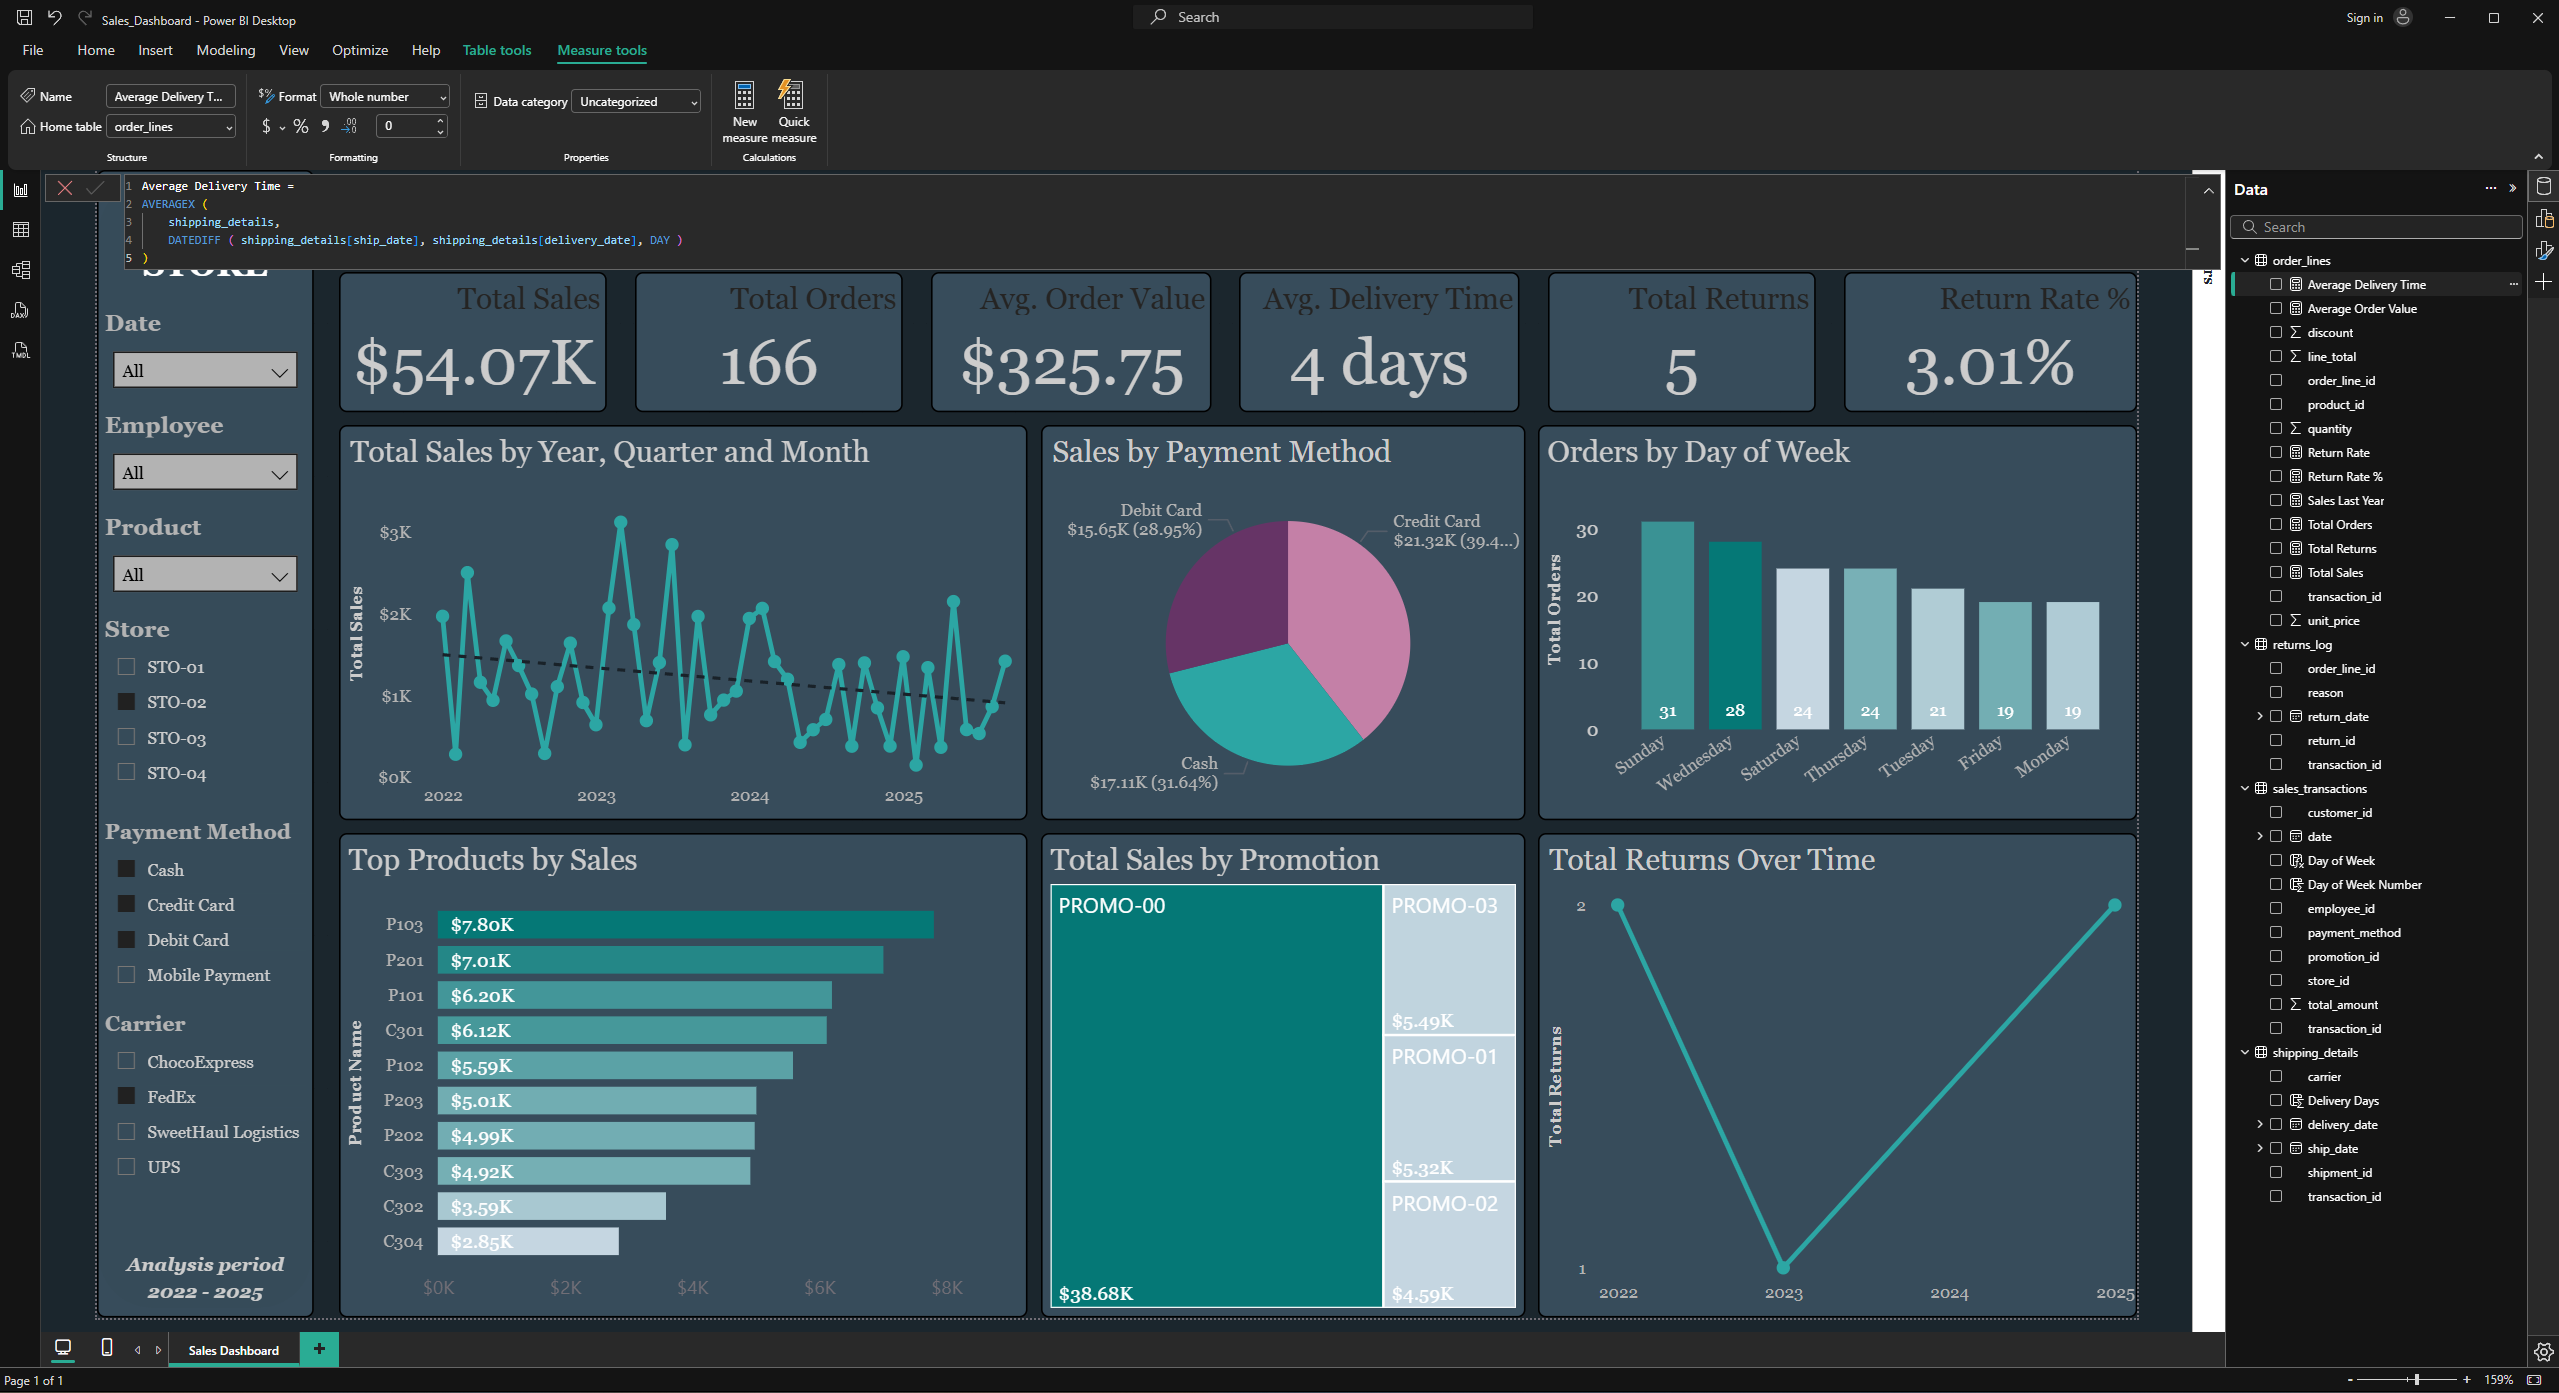

What the dashboard file says about the page in this screenshot:
{"tool":"powerbi","page":{"name":"Sales Dashboard","canvas":[1280,720],"ordinal":0},"visuals":[{"type":"shape","box":[0,0,136,720],"z":0},{"type":"lineChart","fields":{"Y":["order_lines.Total Sales"],"Category":["sales_transactions.date.Variation.Date Hierarchy.Year","sales_transactions.date.Variation.Date Hierarchy.Quarter","sales_transactions.date.Variation.Date Hierarchy.Month"]},"box":[152,160,432,248],"z":1000},{"type":"textbox","box":[152,8,1120,48],"z":2000},{"type":"slicer","title":"Employee","fields":{"Values":["sales_transactions.employee_id"]},"box":[0,152,136,64],"z":3000},{"type":"card","title":"Total Sales","fields":{"Values":["order_lines.Total Sales"]},"box":[152,64,168,88],"z":4000},{"type":"textbox","box":[0,16,136,64],"z":5000},{"type":"slicer","title":"Product","fields":{"Values":["order_lines.product_id"]},"box":[0,216,136,64],"z":6000},{"type":"slicer","title":"Date","fields":{"Values":["sales_transactions.date.Variation.Date Hierarchy.Year","sales_transactions.date.Variation.Date Hierarchy.Quarter","sales_transactions.date.Variation.Date Hierarchy.Month","sales_transactions.date.Variation.Date Hierarchy.Day","sales_transactions.date.Variation.Date Hierarchy.Year","sales_transactions.date.Variation.Date Hierarchy.Month"]},"box":[0,88,136,64],"z":7000},{"type":"card","title":"Total Orders","fields":{"Values":["order_lines.Total Orders"]},"box":[337.6,64,168,88],"z":8000},{"type":"card","title":"Total Returns","fields":{"Values":["order_lines.Total Returns"]},"box":[910.4,64,168,88],"z":9000},{"type":"card","title":"Avg. Order Value","fields":{"Values":["order_lines.Average Order Value"]},"box":[523.2,64,176,88],"z":10000},{"type":"card","title":"Avg. Delivery Time","fields":{"Values":["order_lines.Average Delivery Time"]},"box":[716.8,64,176,88],"z":11000},{"type":"card","title":"Return Rate %","fields":{"Values":["order_lines.Sales YoY Growth %"]},"box":[1096,64,184,88],"z":12000},{"type":"barChart","title":"Top Products by Sales","fields":{"Category":["order_lines.product_id"],"Y":["Sum(order_lines.line_total)"]},"box":[152,416,432,304],"z":13000},{"type":"slicer","title":"Store","fields":{"Values":["sales_transactions.store_id"]},"box":[0,280,136,120],"z":14000},{"type":"slicer","title":"Payment Method","fields":{"Values":["sales_transactions.payment_method"]},"box":[0,408,136,120],"z":15000},{"type":"pieChart","title":"Sales by Payment Method","fields":{"Category":["sales_transactions.payment_method"],"Y":["Sum(sales_transactions.total_amount)"]},"box":[592,160,304,248],"z":16000},{"type":"columnChart","title":"Orders by Day of Week","fields":{"Y":["order_lines.Total Orders"],"Category":["sales_transactions.Day of Week"]},"box":[904,160,376,248],"z":17000},{"type":"treemap","title":"Total Sales by Promotion","fields":{"Group":["sales_transactions.promotion_id"],"Values":["Sum(sales_transactions.total_amount)"]},"box":[592,416,304,304],"z":18000},{"type":"lineChart","title":"Total Returns Over Time","fields":{"Y":["CountNonNull(returns_log.return_id)"],"Category":["sales_transactions.date.Variation.Date Hierarchy.Year"]},"box":[904,416,376,304],"z":19000},{"type":"textbox","box":[0,672,136,48],"z":20000},{"type":"slicer","title":"Carrier","fields":{"Values":["shipping_details.carrier"]},"box":[0,528,136,120],"z":21000}]}

Visuals, with their boxes on the page's 1280x720 design canvas (x1, y1, x2, y2). These are canvas units, not pixel positions in the 2559x1393 screenshot, which may show the page scaled, cropped or inside an application window:
shape: 0:0:136:720
lineChart - order_lines.Total Sales x sales_transactions.date.Variation.Date Hierarchy.Year: 152:160:584:408
textbox: 152:8:1272:56
"Employee" slicer: 0:152:136:216
"Total Sales" card: 152:64:320:152
textbox: 0:16:136:80
"Product" slicer: 0:216:136:280
"Date" slicer: 0:88:136:152
"Total Orders" card: 338:64:506:152
"Total Returns" card: 910:64:1078:152
"Avg. Order Value" card: 523:64:699:152
"Avg. Delivery Time" card: 717:64:893:152
"Return Rate %" card: 1096:64:1280:152
"Top Products by Sales" barChart: 152:416:584:720
"Store" slicer: 0:280:136:400
"Payment Method" slicer: 0:408:136:528
"Sales by Payment Method" pieChart: 592:160:896:408
"Orders by Day of Week" columnChart: 904:160:1280:408
"Total Sales by Promotion" treemap: 592:416:896:720
"Total Returns Over Time" lineChart: 904:416:1280:720
textbox: 0:672:136:720
"Carrier" slicer: 0:528:136:648
